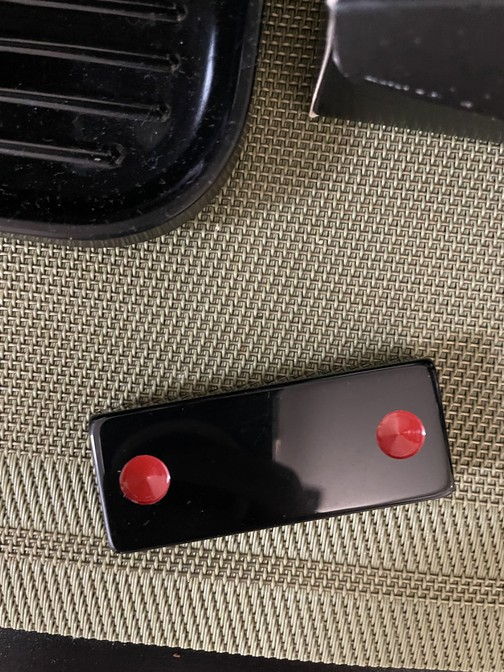earth: (88, 359, 456, 552)
